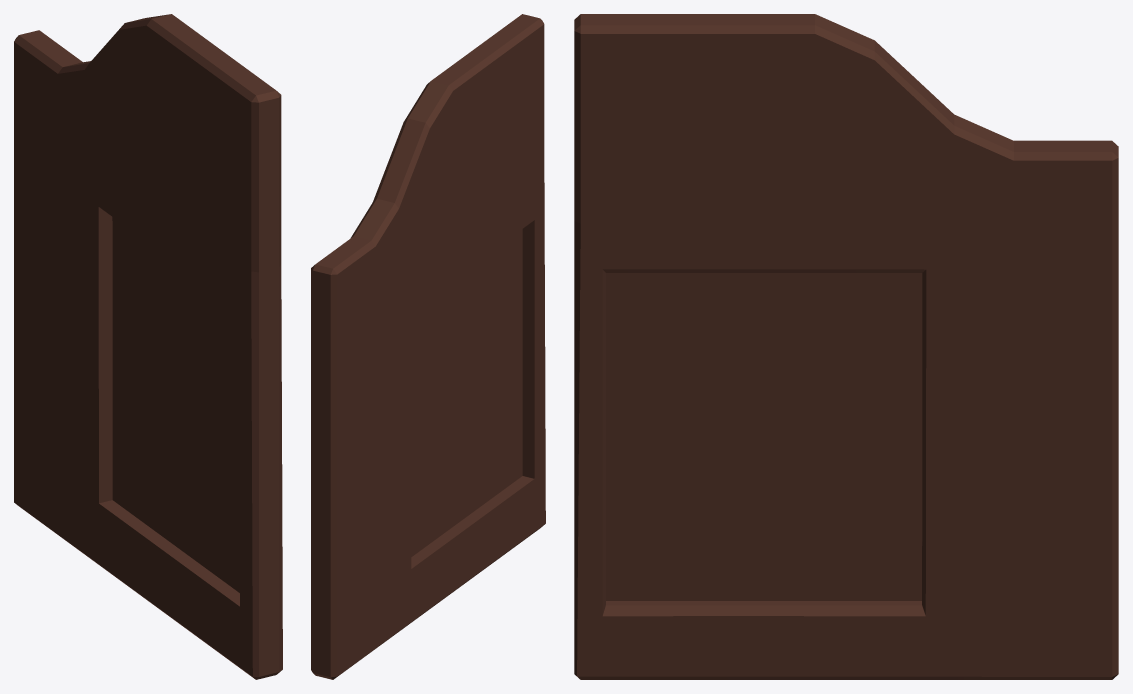
The model's file is Saloon Door-col.glb.
The picture shows the model from 3 angles, left to right: view 1: azimuth 30°, elevation 25°; view 2: azimuth 150°, elevation 25°; view 3: azimuth 270°, elevation 25°; orthographic projection. The views are drawn at different scales.
Parts seen in each view (by area): view 1: Saloon Door-col; view 2: Saloon Door-col; view 3: Saloon Door-col.
Part boxes in pixels (left/top/right/bottom): Saloon Door-col: left=14, top=14, right=282, bottom=679; Saloon Door-col: left=311, top=14, right=545, bottom=679; Saloon Door-col: left=574, top=14, right=1118, bottom=679.
Size of the model in its own units: 0.0477 by 0.8836 by 0.6654.
